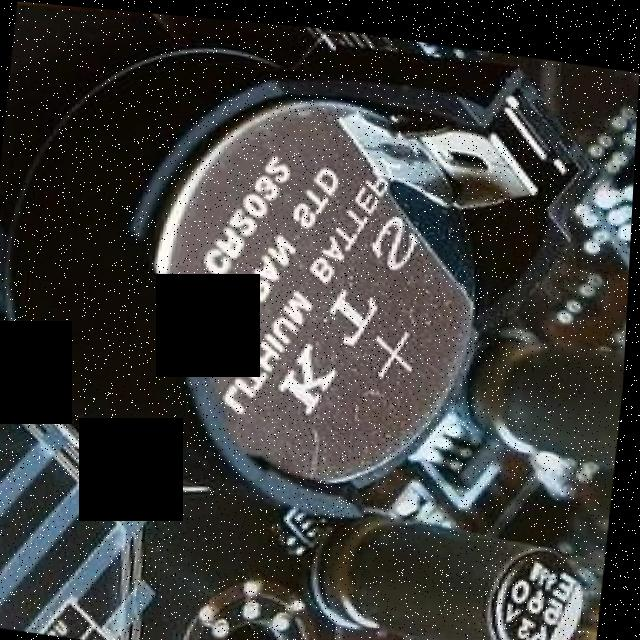battery: (20, 30, 610, 530)
capacitor 1V5: (304, 496, 601, 640)
